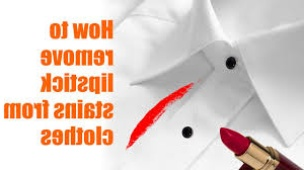lipstick: (123, 105, 164, 148), (158, 82, 196, 114)
